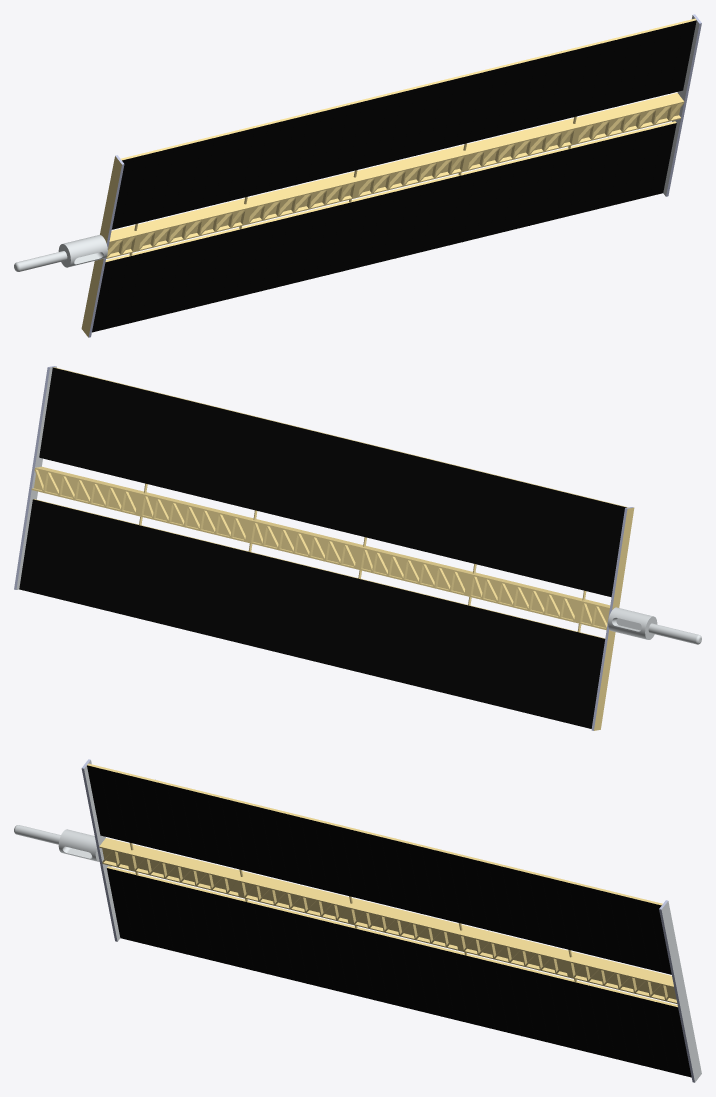
File: solarpanels_8.FBX
3 renders of one model, top to bottom at view 1: azimuth 30°, elevation 25°; view 2: azimuth 150°, elevation 25°; view 3: azimuth 330°, elevation 25°, orthographic.
Parts seen in each view (by area): view 1: pieza N111 ISS-7-solid1; view 2: pieza N111 ISS-7-solid1; view 3: pieza N111 ISS-7-solid1.
Part boxes in pixels (<box>): pieza N111 ISS-7-solid1: <box>14,14,701,337</box>; pieza N111 ISS-7-solid1: <box>14,366,701,730</box>; pieza N111 ISS-7-solid1: <box>14,759,701,1082</box>.
Size of the model in its own units: 2700 by 781 by 284.
